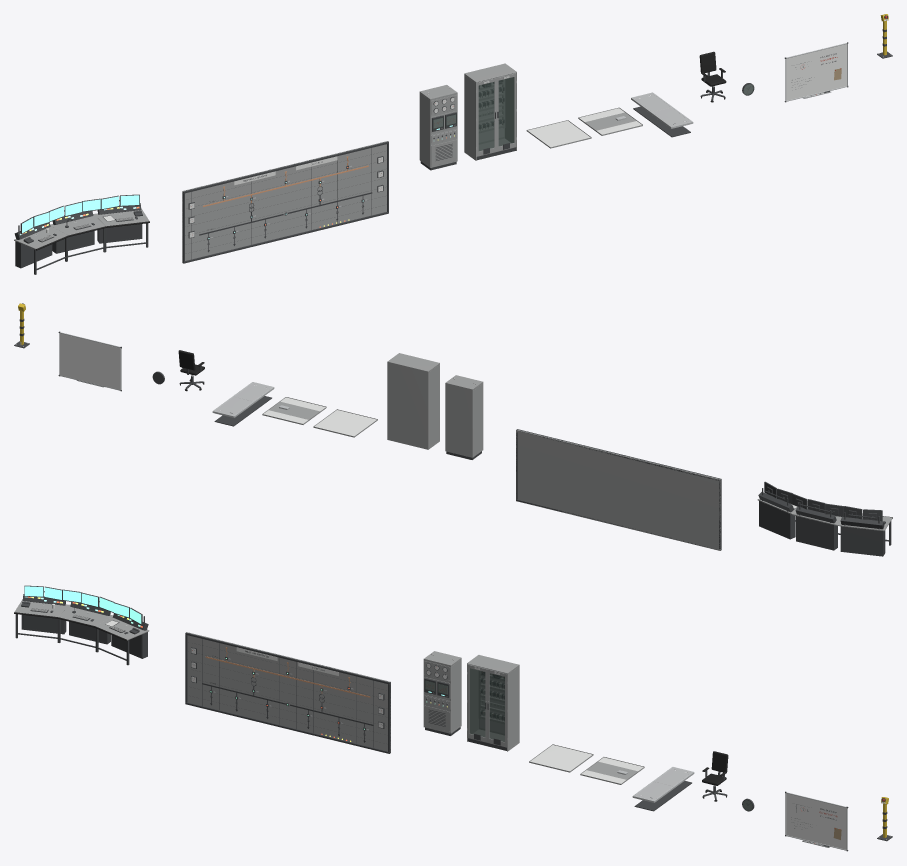
The model's file is control_kit.glb.
3 views of the same model, one above another, from view 1: azimuth 30°, elevation 25°; view 2: azimuth 150°, elevation 25°; view 3: azimuth 330°, elevation 25° (orthographic).
Parts seen in each view (by area): view 1: mimic_panel_body, control_desk_3_body, relay_cabinet_body, instrument_rack_body, whiteboard_body, cable_trench_cover_body, ceiling_grid_tile_body, ceiling_grid_tile_light_body, office_chair_body; view 2: mimic_panel_body, control_desk_3_body, relay_cabinet_body, instrument_rack_body, whiteboard_body, cable_trench_cover_body, ceiling_grid_tile_body, ceiling_grid_tile_light_body, office_chair_body; view 3: mimic_panel_body, control_desk_3_body, relay_cabinet_body, instrument_rack_body, whiteboard_body, cable_trench_cover_body, ceiling_grid_tile_body, ceiling_grid_tile_light_body, office_chair_body.
Boxes of the visible parts, x1,y1,x2,y2 form: mimic_panel_body: (182,141,388,263); control_desk_3_body: (14,194,149,274); relay_cabinet_body: (464,63,516,160); instrument_rack_body: (419,85,457,170); whiteboard_body: (784,42,848,102); cable_trench_cover_body: (631,92,693,137); ceiling_grid_tile_body: (526,120,591,148); ceiling_grid_tile_light_body: (578,107,642,135); office_chair_body: (699,51,726,102); mimic_panel_body: (516,429,721,550); control_desk_3_body: (757,481,892,556); relay_cabinet_body: (387,353,439,449); instrument_rack_body: (445,375,483,459); whiteboard_body: (58,331,121,391); cable_trench_cover_body: (212,382,274,426); ceiling_grid_tile_body: (313,409,377,437); ceiling_grid_tile_light_body: (262,397,326,424); office_chair_body: (178,350,204,391); mimic_panel_body: (185,632,390,753); control_desk_3_body: (14,585,149,665); relay_cabinet_body: (467,655,519,751); instrument_rack_body: (423,651,461,735); whiteboard_body: (785,791,848,851); cable_trench_cover_body: (632,767,694,811); ceiling_grid_tile_body: (529,744,593,772); ceiling_grid_tile_light_body: (580,757,644,784); office_chair_body: (702,751,728,801).
Size of the model in its own units: 25.51 by 3.2 by 2.04.
